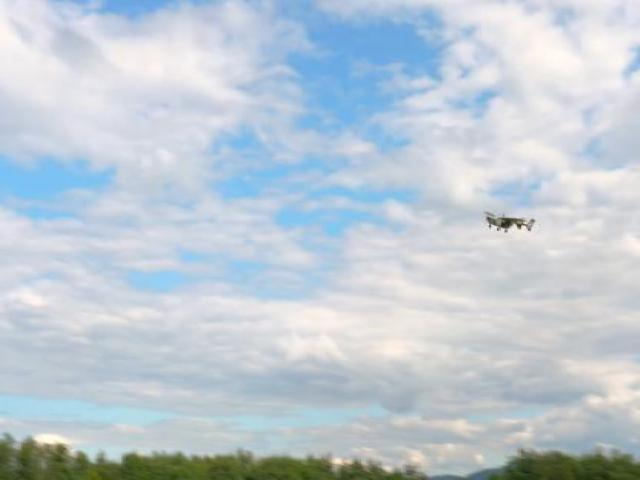uav: (485, 204, 537, 238)
